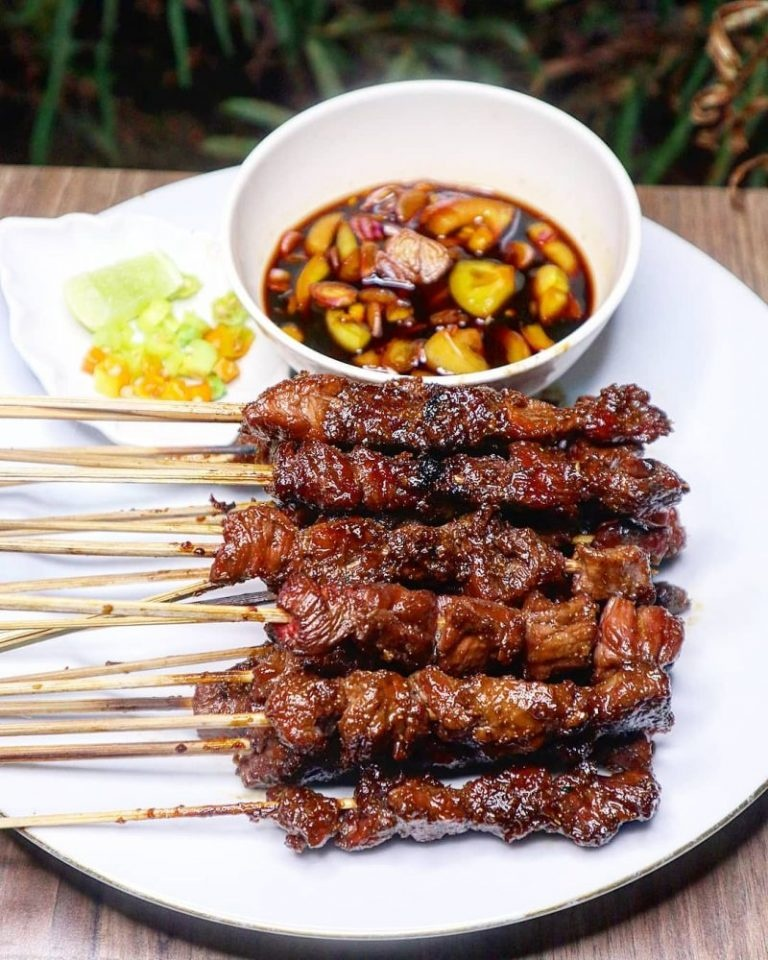sate: (0, 679, 673, 848), (0, 515, 686, 678), (0, 369, 673, 452), (0, 444, 699, 516)
